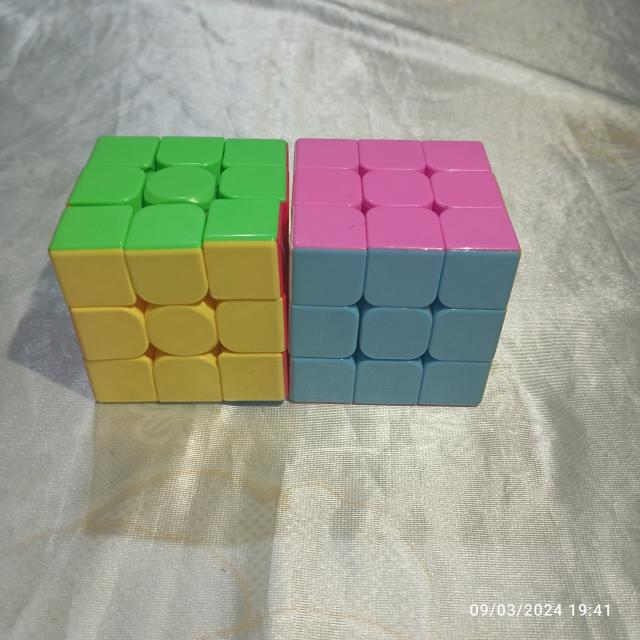Rub: (41, 129, 288, 410), (288, 130, 528, 413)
